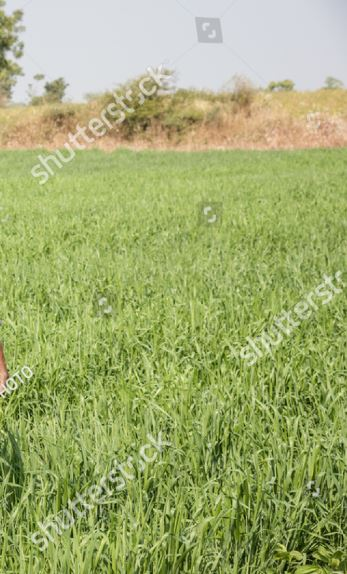Wheat: (32, 347, 331, 560)
